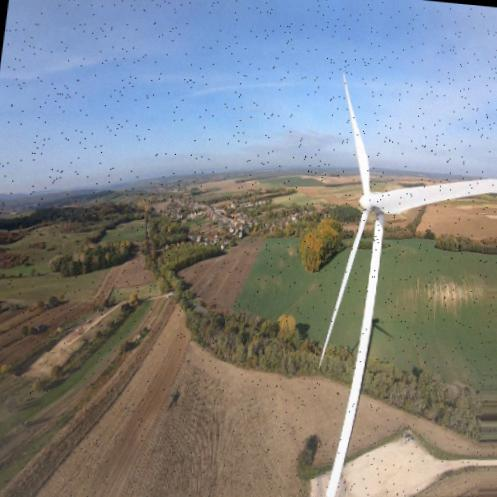wind turbine: (319, 73, 493, 490)
